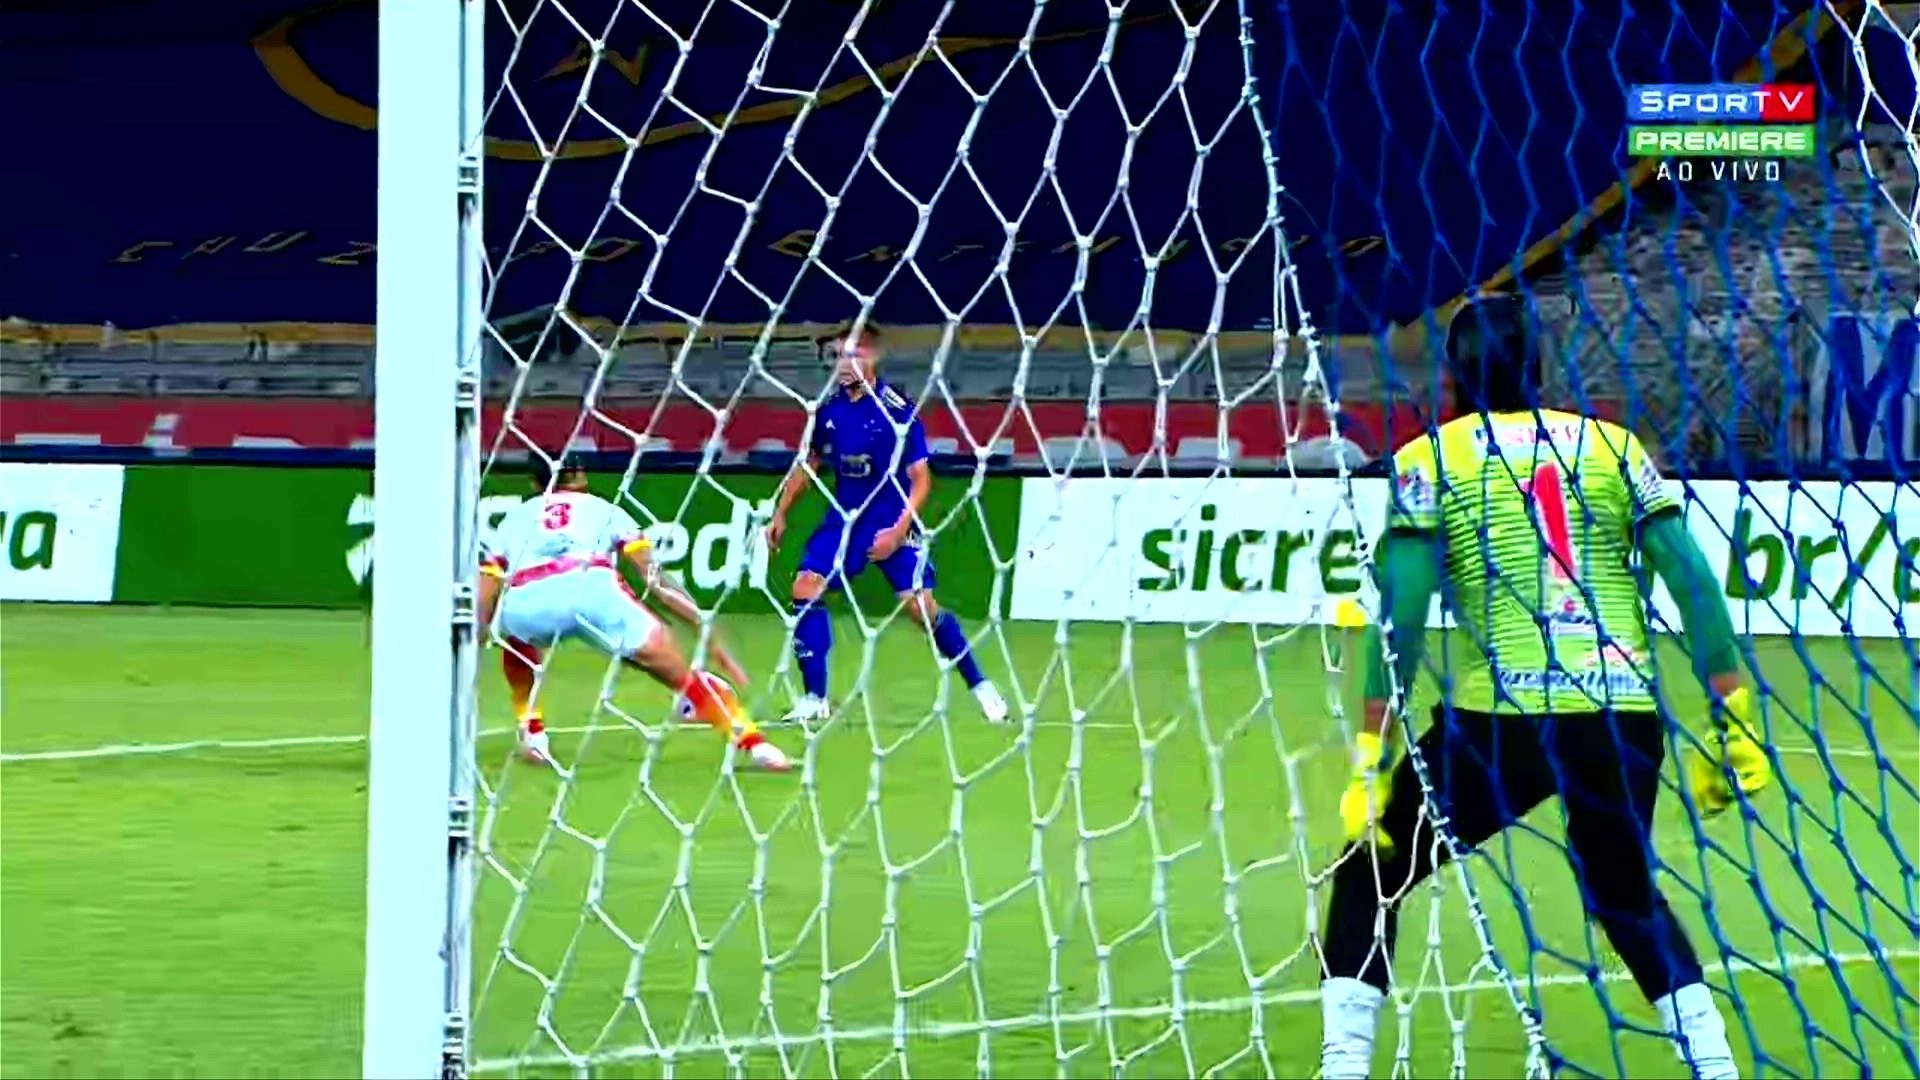SporTV: (1629, 84, 1816, 120)
